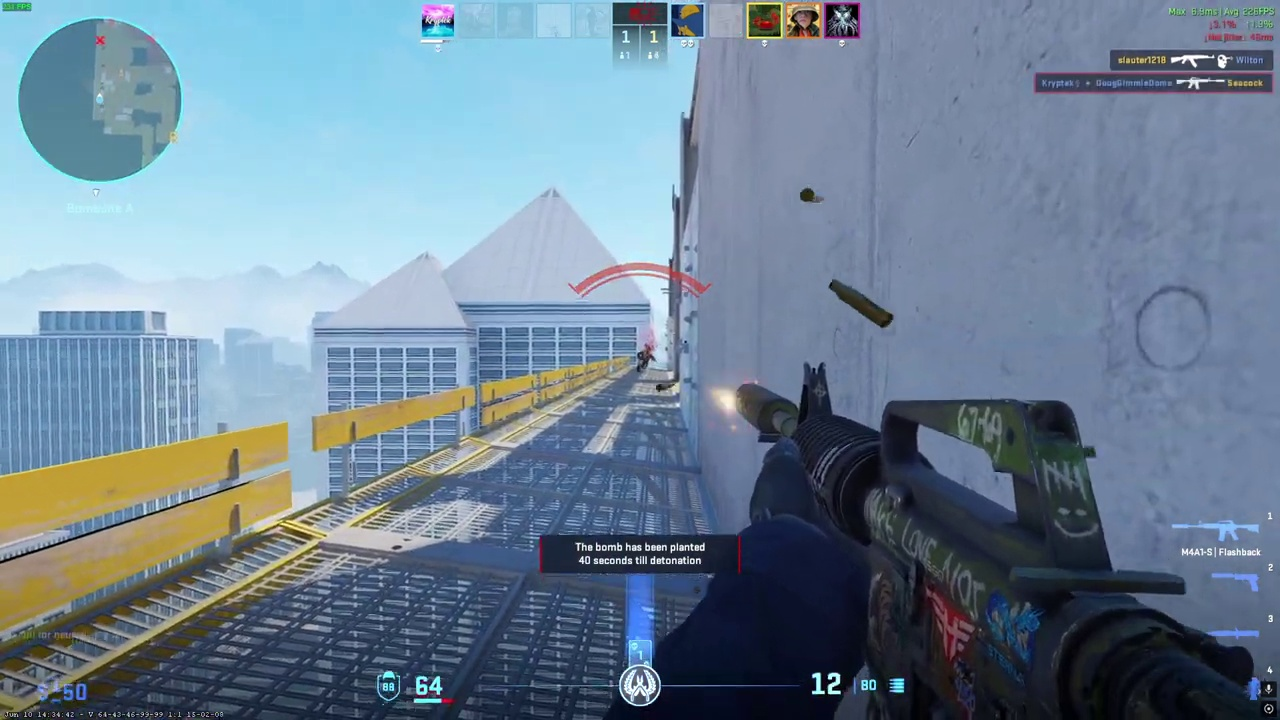Terrorist: (636, 343, 654, 373)
